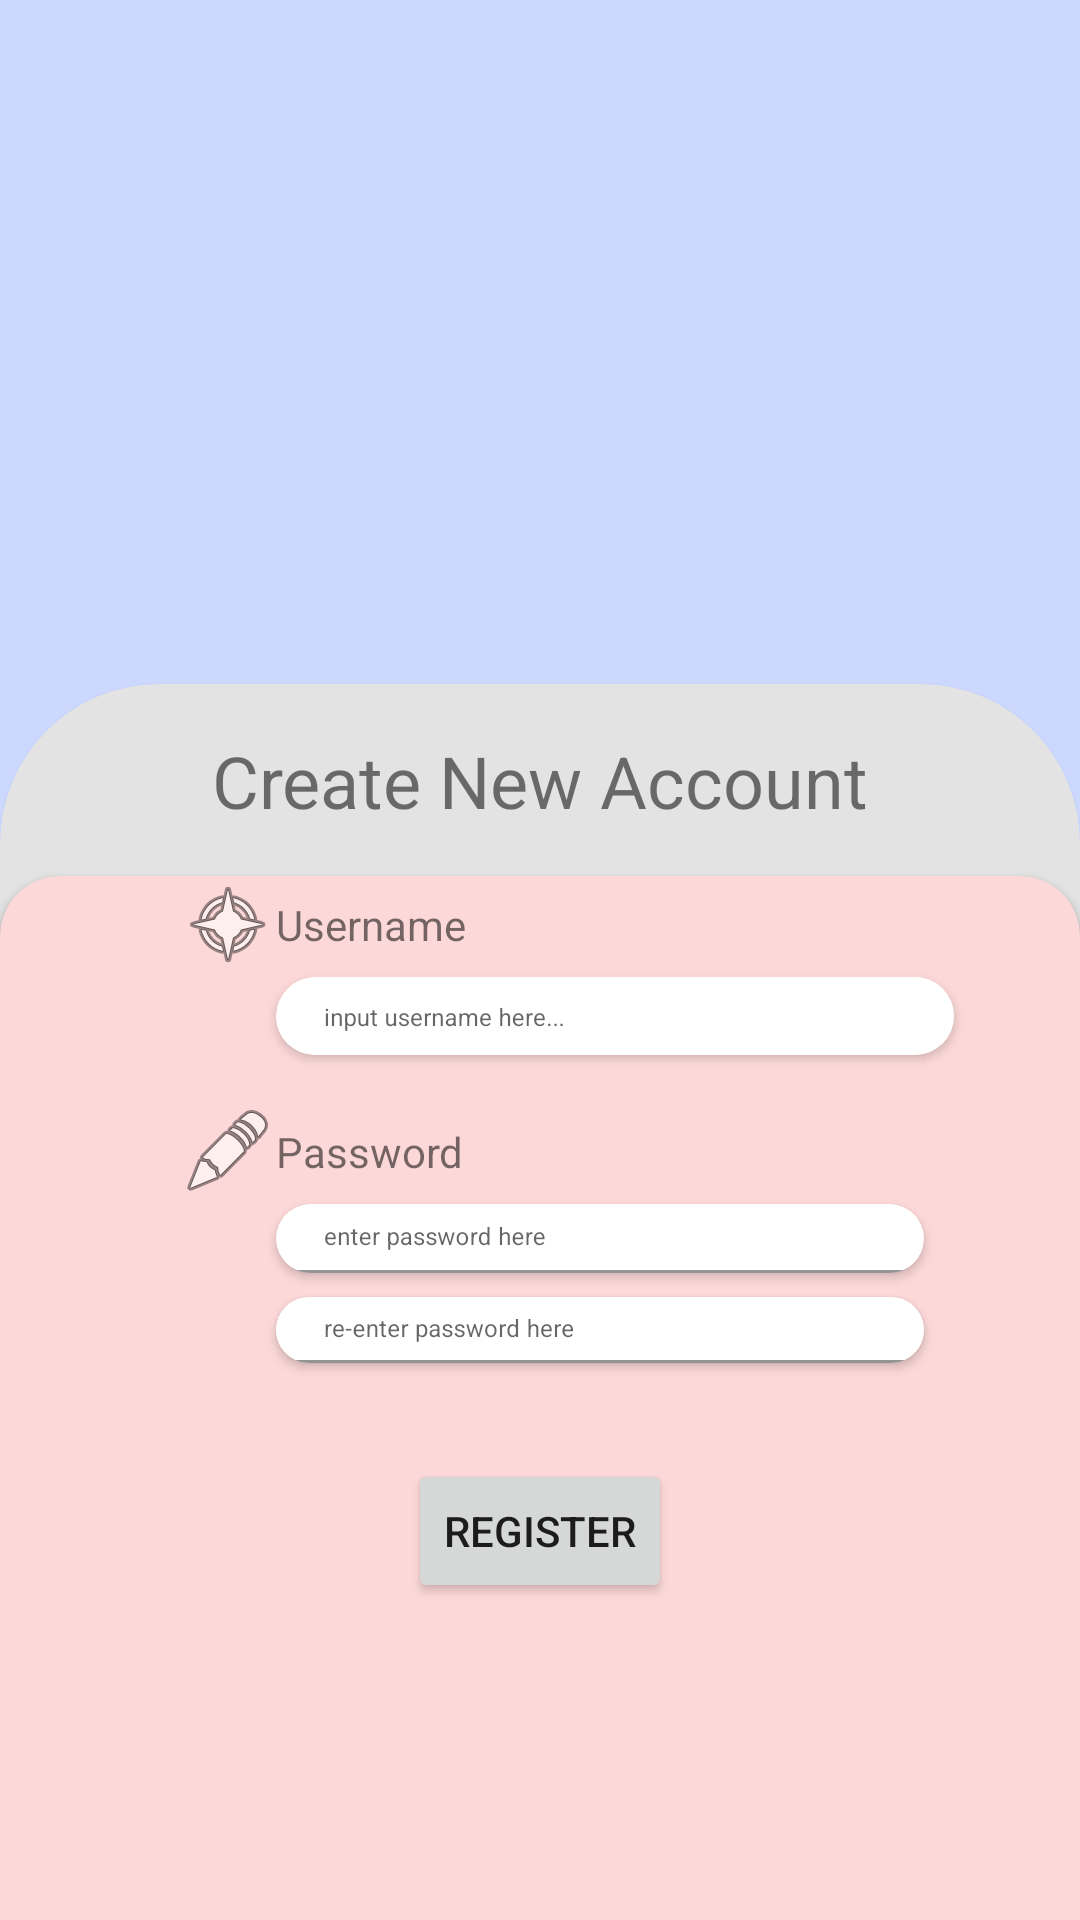

Locate icon controls on the screen. Image size 1080*1920, boxes as [x1=x1, y1=y1, x2=x2, y2=y2].
compass: [x1=190, y1=887, x2=266, y2=962]
edit: [x1=187, y1=1110, x2=268, y2=1191]
